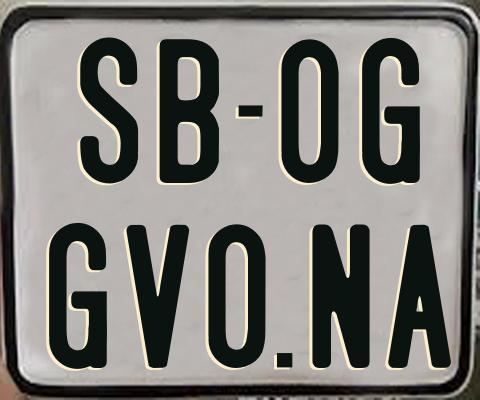0: (279, 39, 343, 185), (207, 222, 270, 367)
A: (386, 223, 453, 372)
B: (158, 39, 217, 184)
G: (47, 221, 108, 373), (359, 35, 420, 184)
N: (309, 224, 368, 370)
S: (78, 36, 137, 183)
V: (126, 222, 195, 365)
